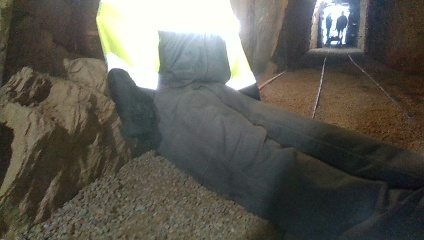manikin: (97, 0, 309, 238)
